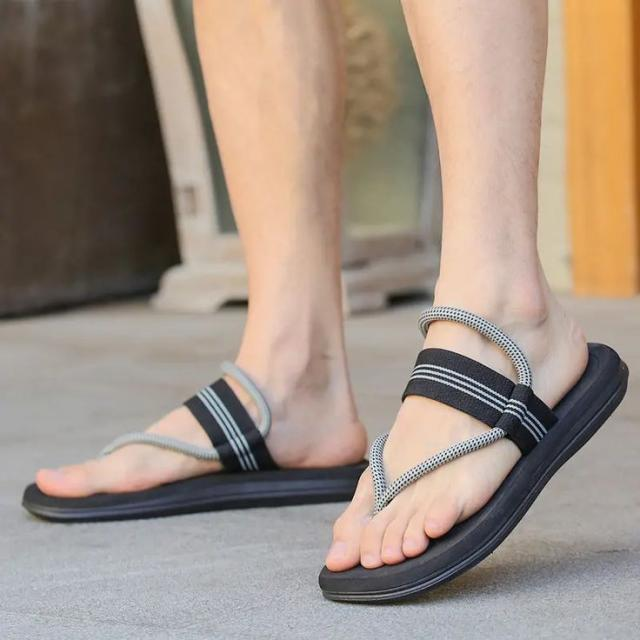Sandals: (317, 271, 630, 605), (23, 360, 369, 523)
